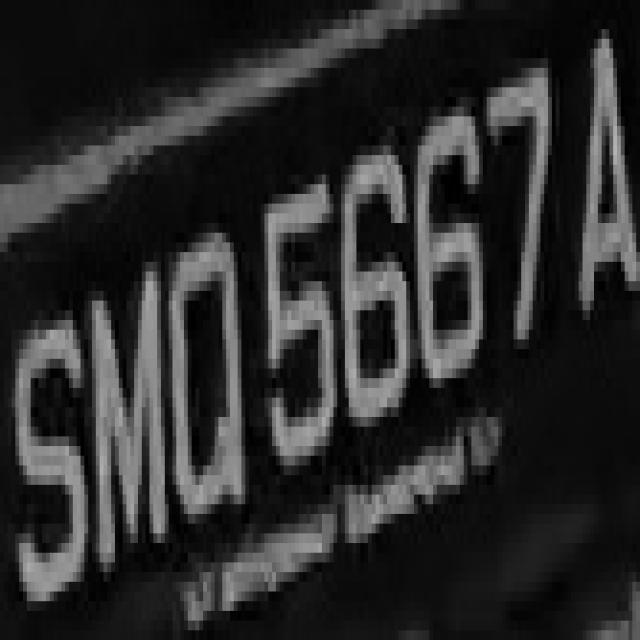5: (261, 165, 341, 465)
6: (410, 87, 491, 398), (334, 116, 406, 436)
7: (479, 29, 563, 378)
A: (571, 10, 629, 349)
M: (80, 242, 176, 582)
Q: (161, 213, 249, 543)
S: (8, 291, 100, 611)
